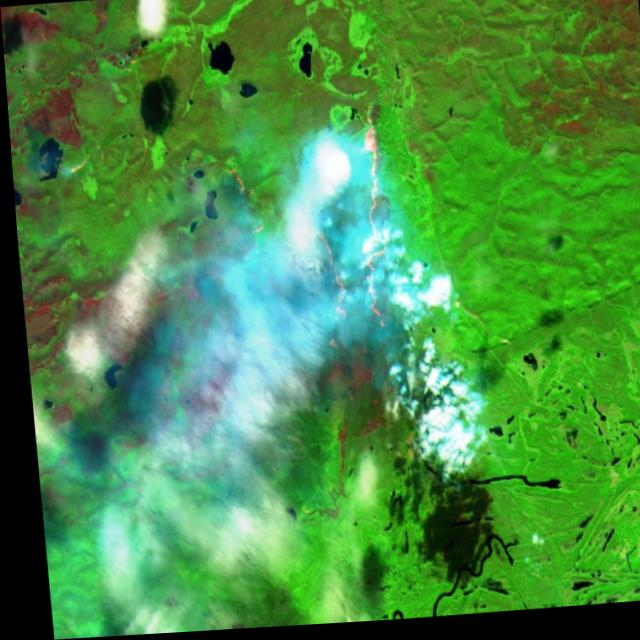fire: (211, 102, 407, 371)
